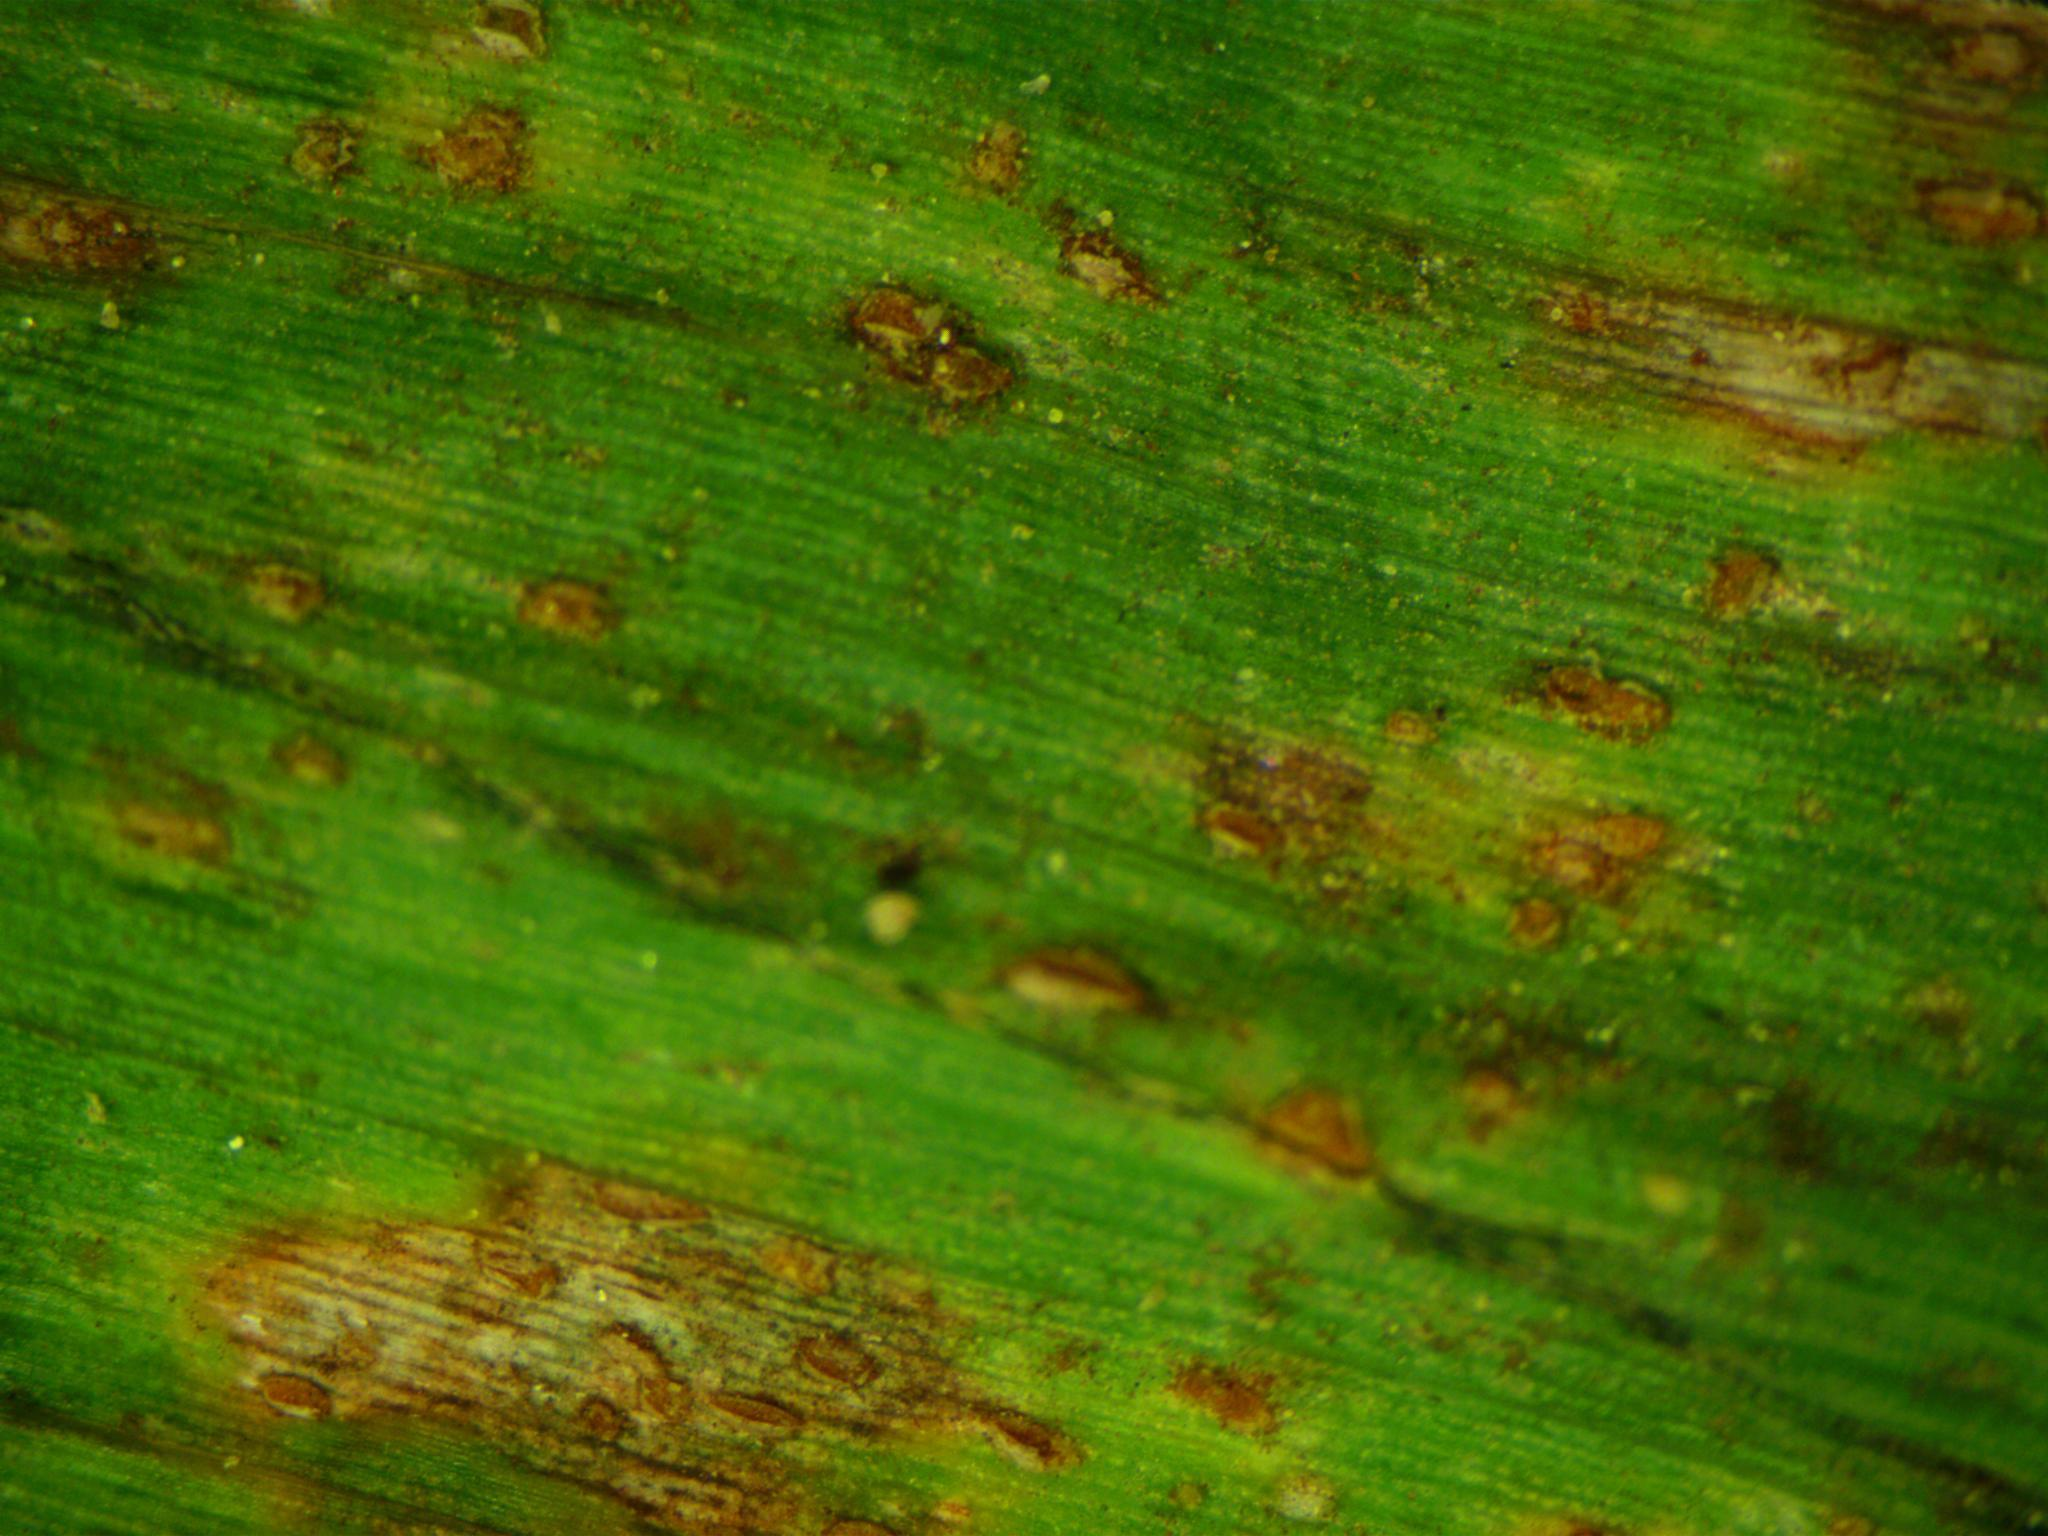Corn rust leaf: (5, 3, 2038, 1536)
